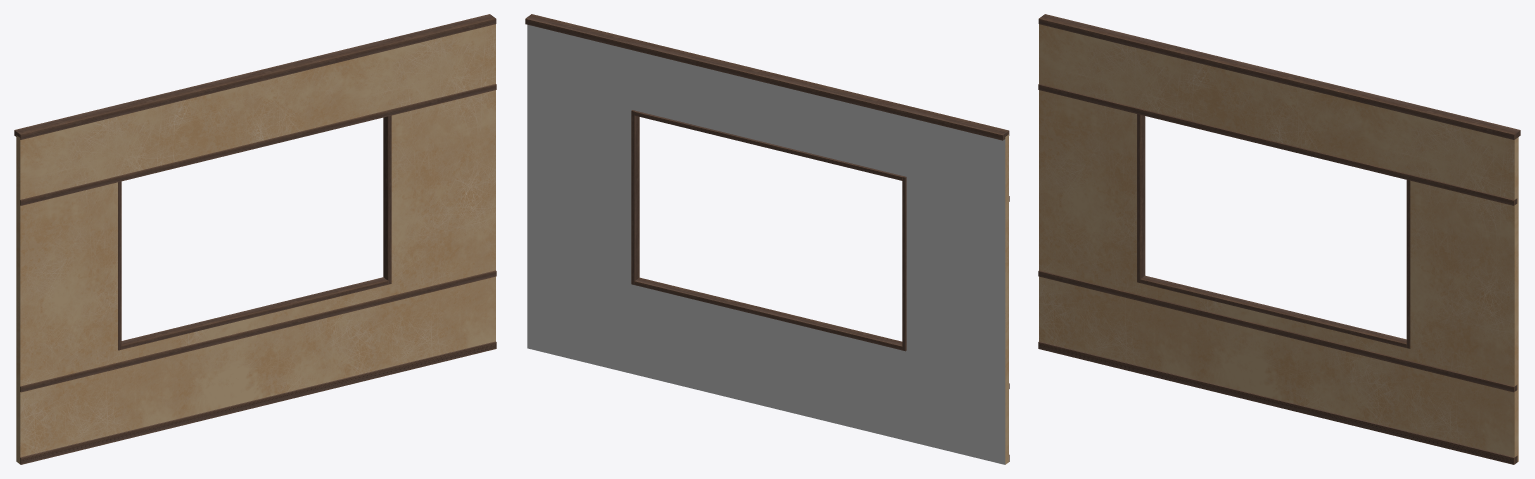
File: jov_outwall01_2t.mado_c1.fbx
3 views of the same model, side by side, from view 1: azimuth 30°, elevation 25°; view 2: azimuth 150°, elevation 25°; view 3: azimuth 330°, elevation 25° (orthographic).
Parts seen in each view (by area): view 1: jov_outwall01_2t.mado_c1; view 2: jov_outwall01_2t.mado_c1; view 3: jov_outwall01_2t.mado_c1.
Boxes of the visible parts, box(x1,y1,x2,y2) form: jov_outwall01_2t.mado_c1: box(14, 14, 496, 464); jov_outwall01_2t.mado_c1: box(525, 14, 1009, 464); jov_outwall01_2t.mado_c1: box(1038, 14, 1520, 464).
Bounding box in the file's own units: 440 × 292 × 11.05.
